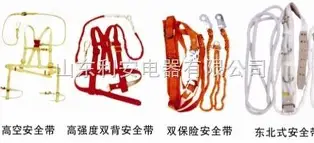safety belt: (242, 5, 309, 124), (158, 8, 231, 116), (74, 15, 149, 111), (4, 12, 64, 107)
